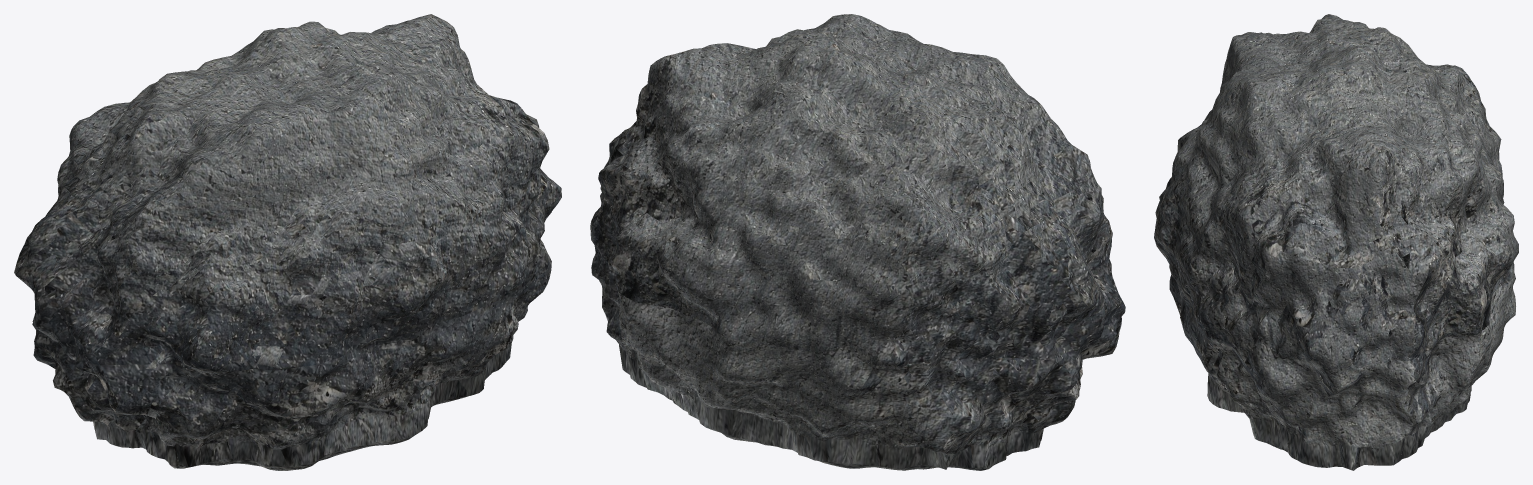
File: vau-large-stone-v01.glb
3 views of the same model, side by side, from view 1: azimuth 30°, elevation 25°; view 2: azimuth 150°, elevation 25°; view 3: azimuth 270°, elevation 25° (orthographic). The views are drawn at different scales.
Parts seen in each view (by area): view 1: Vau boulder v01 | one continuous stone mesh; view 2: Vau boulder v01 | one continuous stone mesh; view 3: Vau boulder v01 | one continuous stone mesh.
Boxes of the visible parts, box(x1,y1,x2,y2) form: Vau boulder v01 | one continuous stone mesh: box(14, 14, 561, 470); Vau boulder v01 | one continuous stone mesh: box(590, 14, 1125, 470); Vau boulder v01 | one continuous stone mesh: box(1154, 14, 1518, 470).
Size of the model in its own units: 3.83 by 2.59 by 2.53.
Materials: 1 (1 with a texture image).
